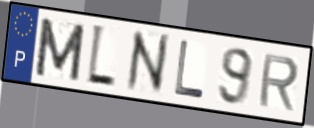9: (216, 45, 256, 106)
L: (85, 21, 118, 91), (172, 37, 206, 101)
M: (32, 16, 88, 84)
N: (124, 28, 170, 95)
R: (256, 52, 301, 113)
